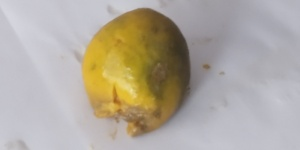BAD: (85, 9, 190, 135)
